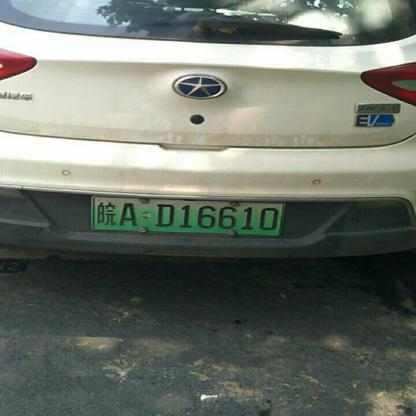lp: (94, 196, 282, 234)
